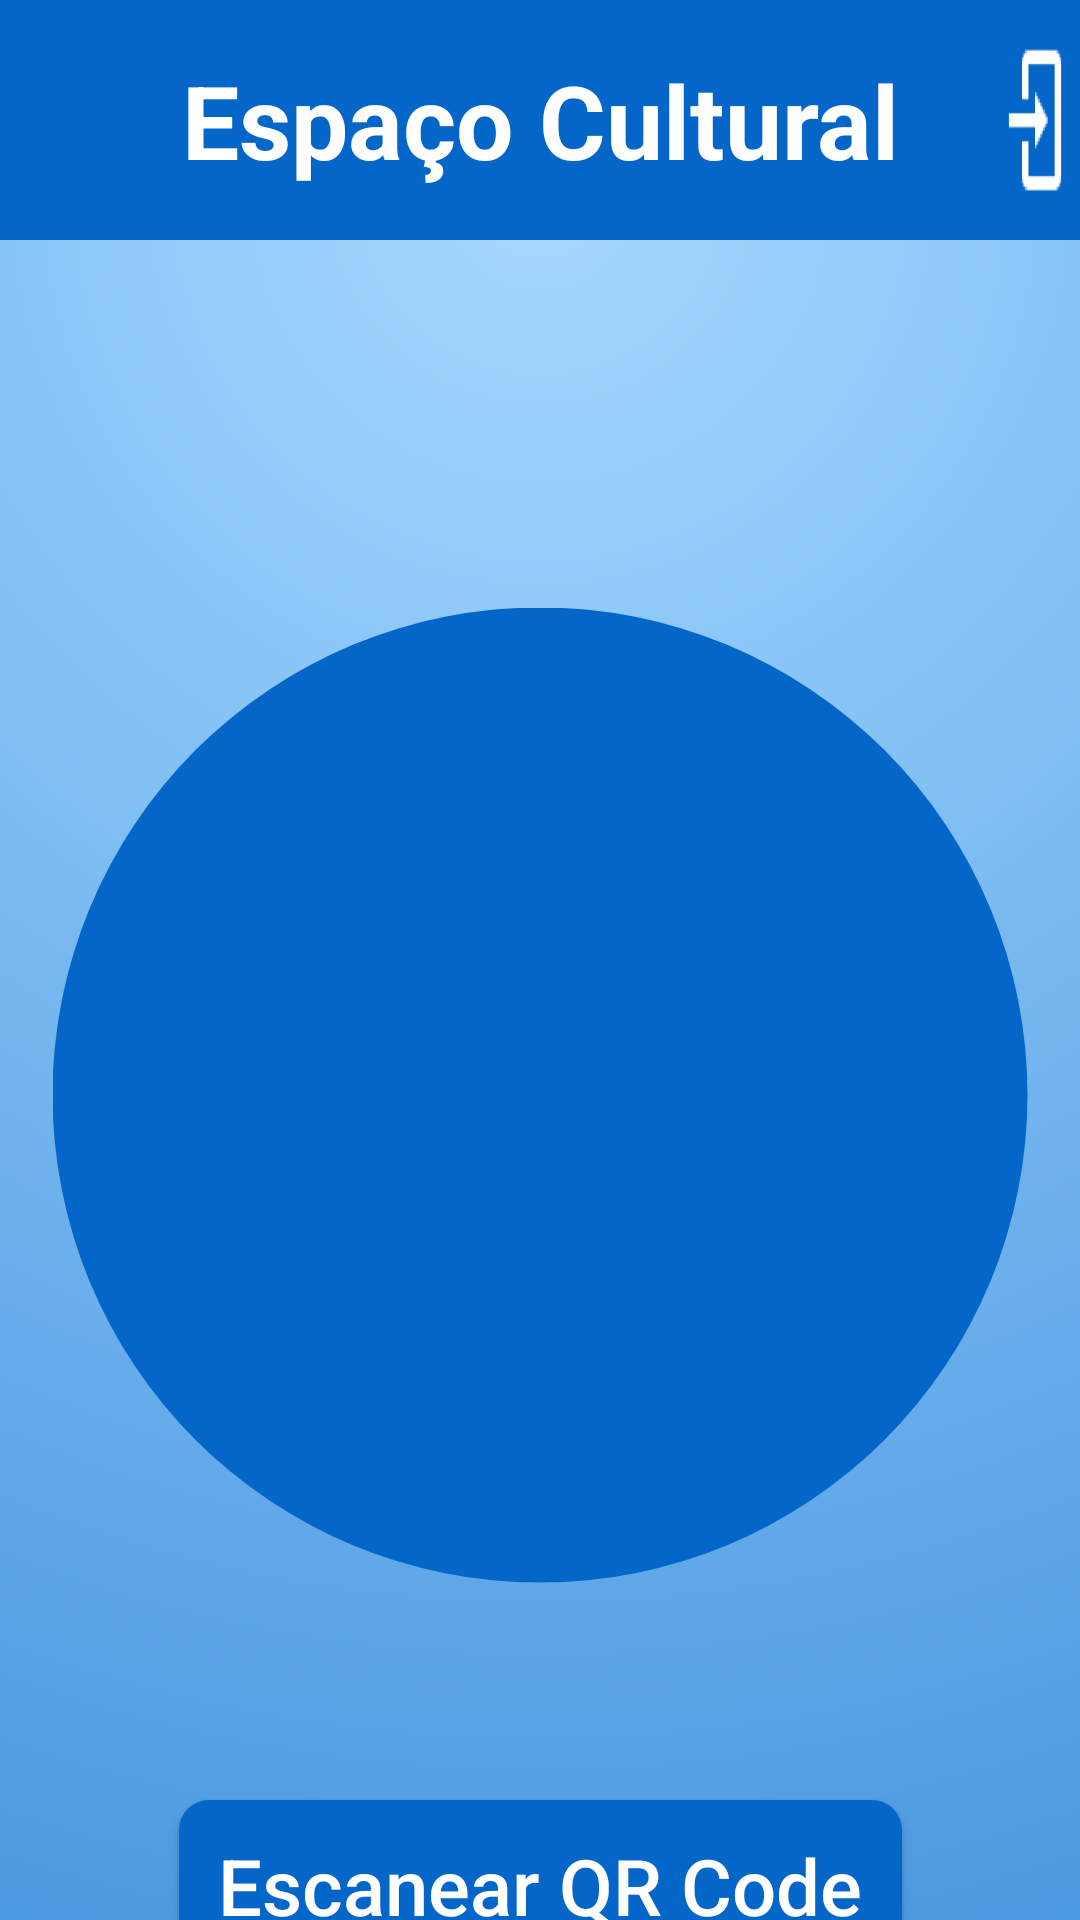

Screen size 1080w x 1920h. Icon name, then its box in pixels as (x1,y1,x2,y2):
login: (1008,49,1062,191)
